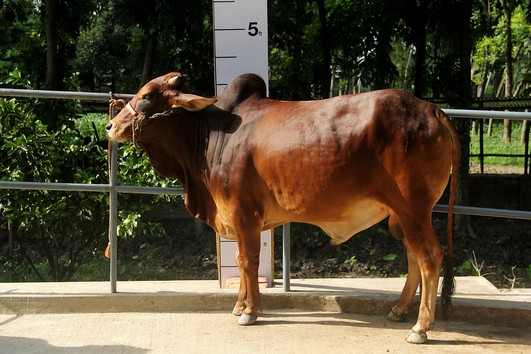cow: (98, 60, 467, 346)
